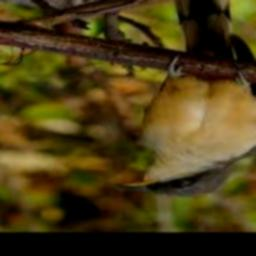Cuckoo: (115, 0, 256, 196)
